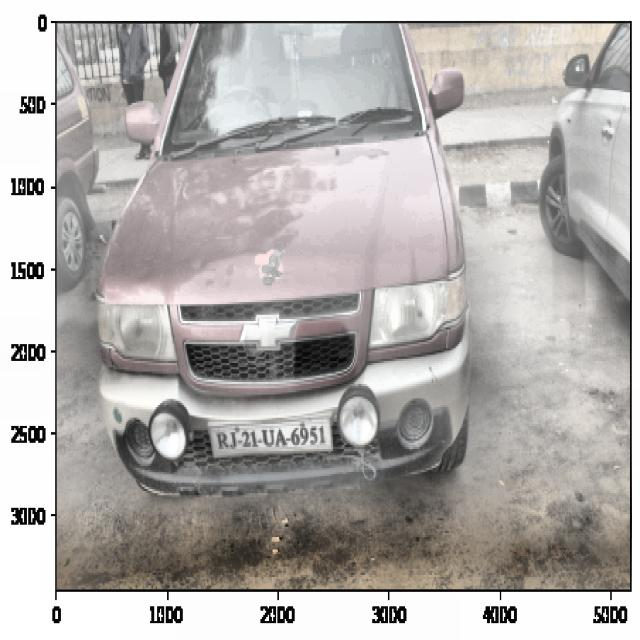license_plate: (213, 419, 329, 456)
